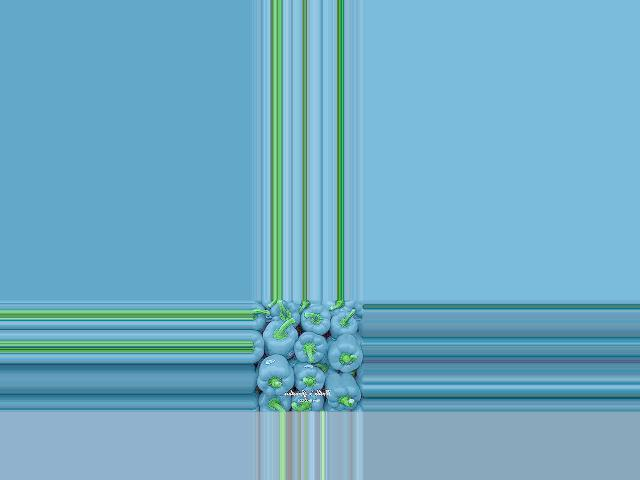bell_pepper: (254, 389, 292, 412)
